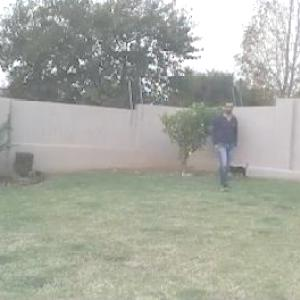follow: (210, 95, 239, 191)
